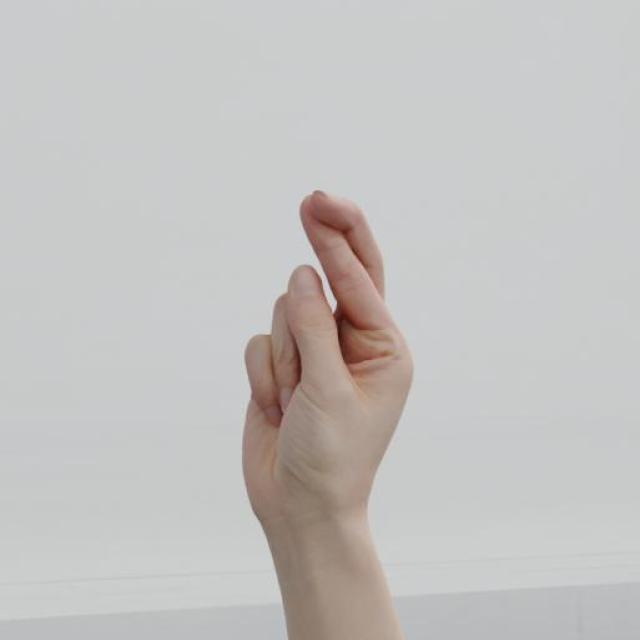R: (231, 182, 418, 533)
